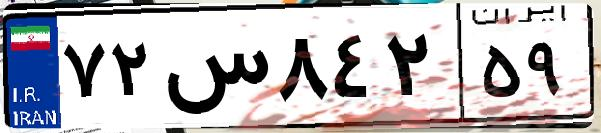2: (385, 28, 445, 110), (110, 28, 158, 98)
4: (330, 28, 385, 110)
5: (475, 38, 525, 113)
7: (57, 26, 110, 100)
8: (270, 28, 330, 110)
9: (525, 38, 570, 115)
س: (158, 20, 270, 120)
